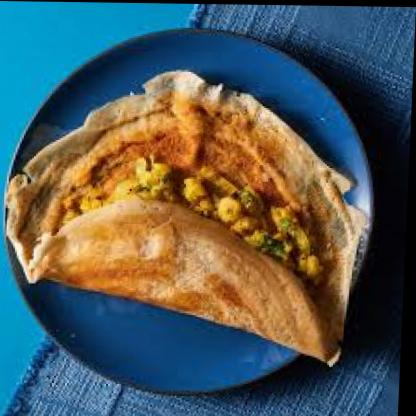dosa: (2, 69, 374, 365)
